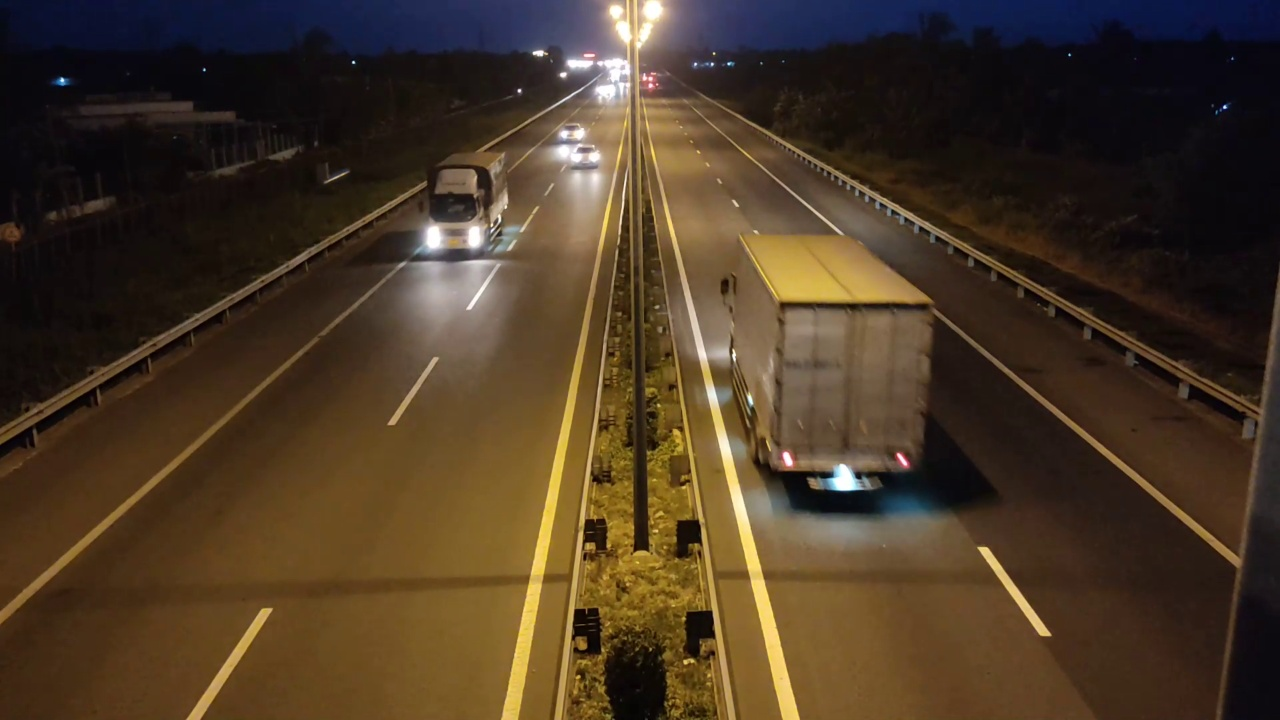car: (567, 145, 601, 170)
truck: (722, 231, 937, 498), (421, 149, 510, 259)
